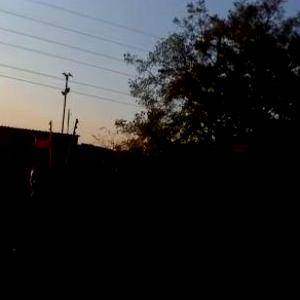follow: (0, 160, 69, 299)
